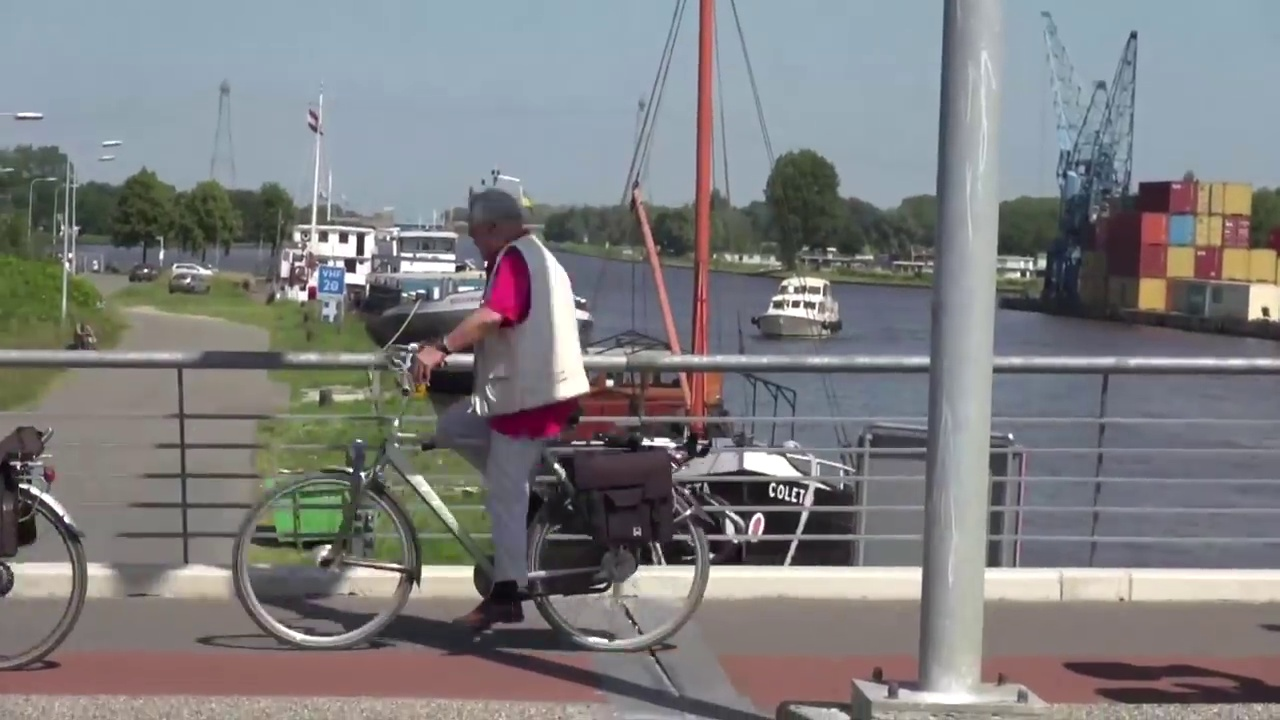cyclist_side: (252, 165, 719, 657)
